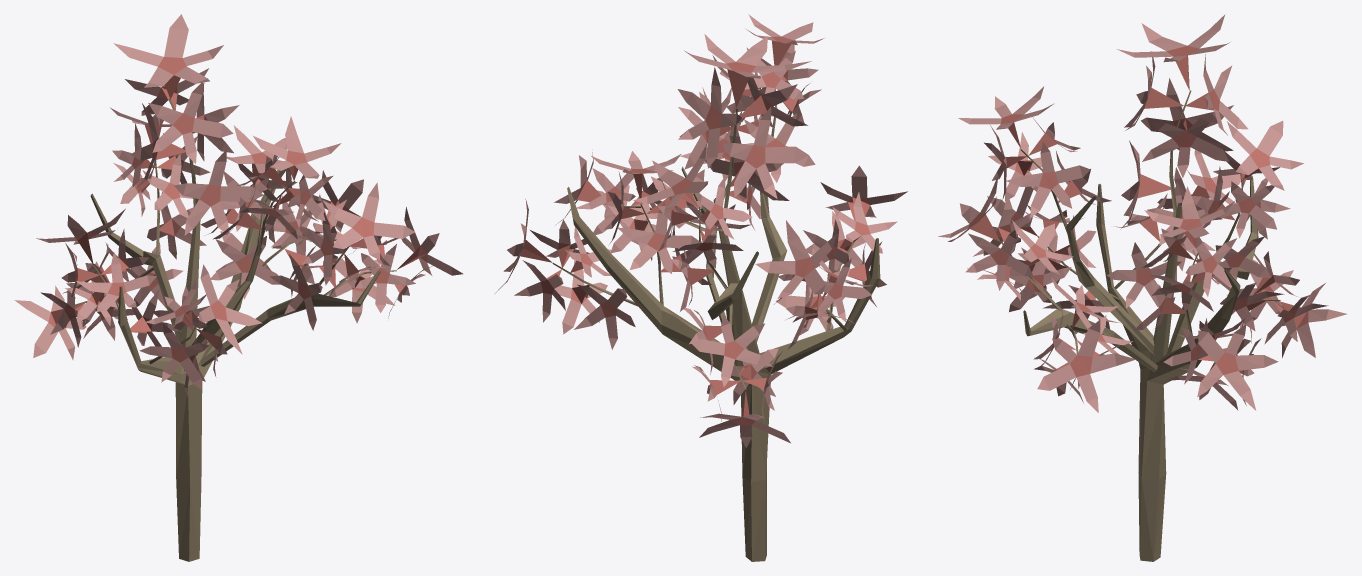
File: Peach_3_4.fbx
The picture shows the model from 3 angles, left to right: view 1: azimuth 30°, elevation 25°; view 2: azimuth 150°, elevation 25°; view 3: azimuth 270°, elevation 25°; orthographic projection. The views are drawn at different scales.
Visible parts, largest first — view 1: Peach_3_4; view 2: Peach_3_4; view 3: Peach_3_4.
Part boxes in pixels (x1,y1,x2,y2): Peach_3_4: [14, 14, 462, 561]; Peach_3_4: [495, 14, 907, 561]; Peach_3_4: [938, 14, 1346, 561].
Bounding box in the file's own units: 267 × 386 × 269.
